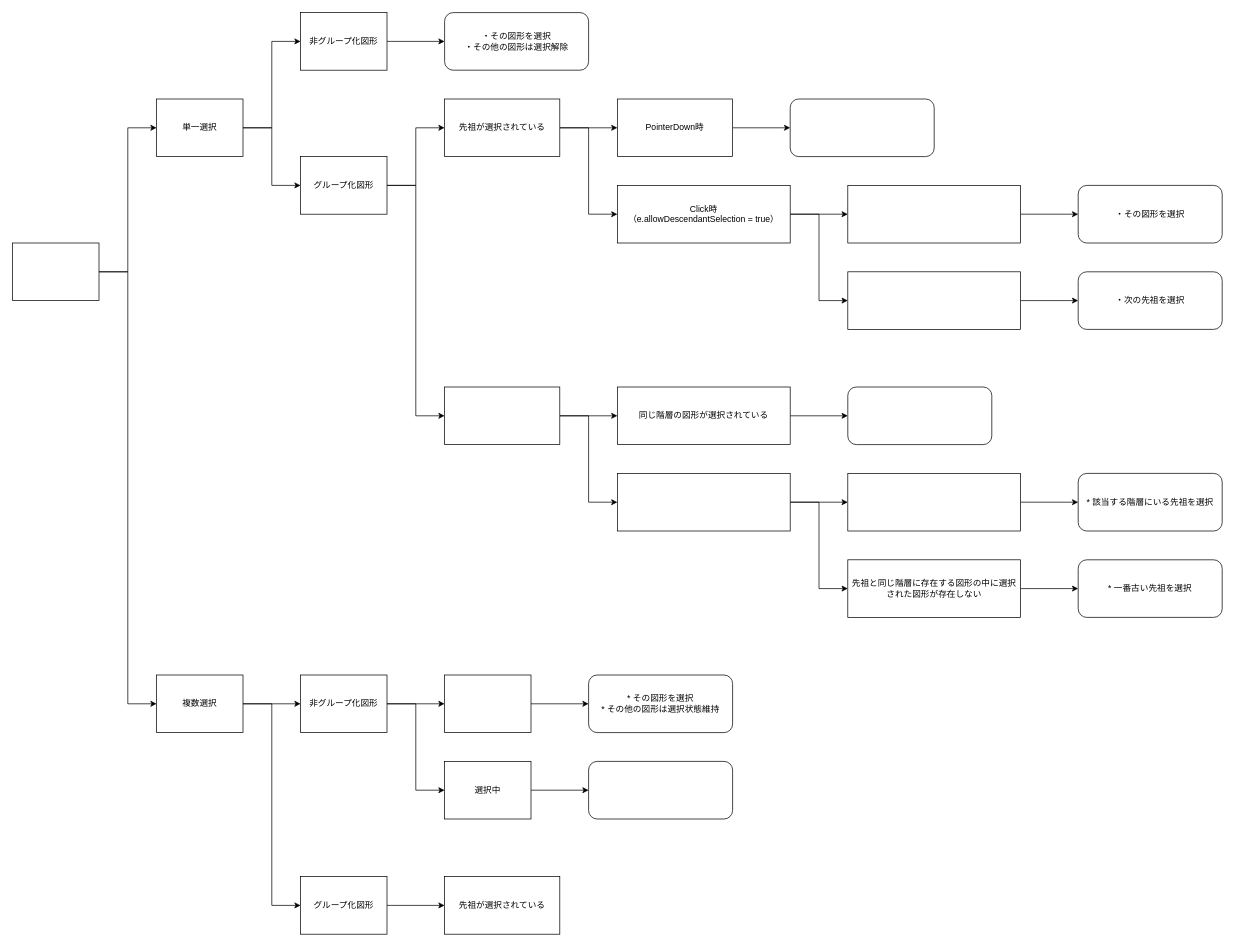
Image size: 1235x947. Some labels were removed from this diagram. The shapes that lost their labels are listed below. From the top down, each one's centre as x and y in pixels, then its label:
[861,127]: ・何もしない
[934,214]: 選択されているグループが直接の親
[55,271]: 選択時
[934,300]: 選択されているグループが直接の親でない
[502,415]: 先祖が選択されていない
[919,415]: * その図形を選択
[703,502]: 同じ階層の図形が選択されていない
[934,502]: 先祖と同じ階層に存在する図形の中に選択された図形が存在する
[487,703]: 非選択中
[660,790]: * その図形の選択解除 * その他の図形は選択状態維持
